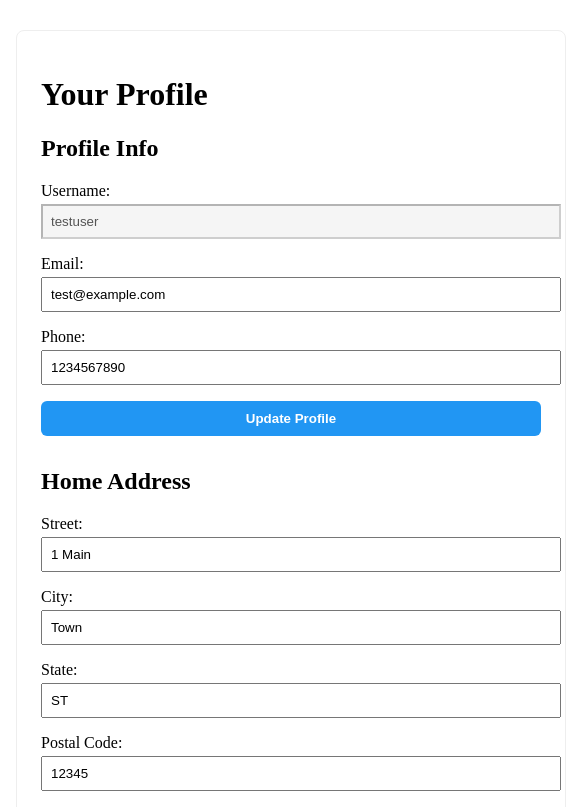
it: Profile › submits profile update and shows success
The width and height of the screenshot is (583, 807).
Replace the text in the field labelled "Email:" with "new@example.com" at (301, 294), box [41,277,561,312]
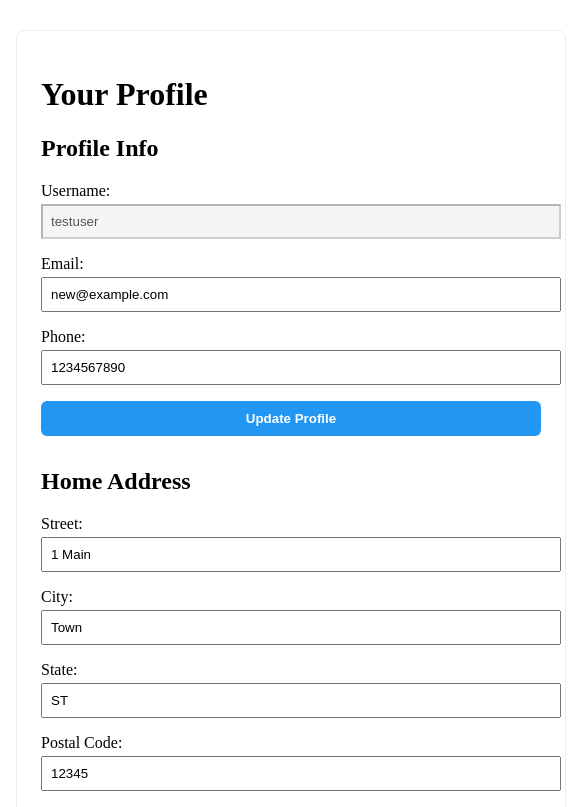
Click the button "Update Profile" at (291, 418), box [41,401,541,436]
(page scrolled)
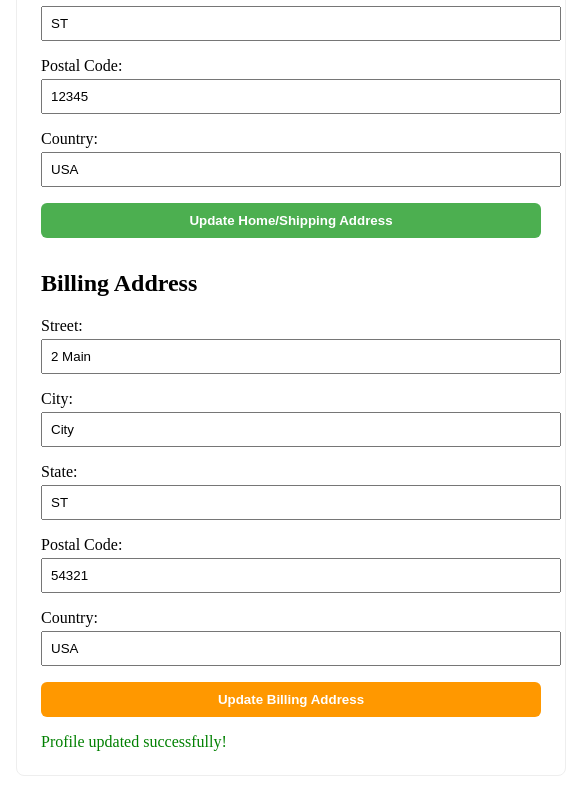
Check: the text "Profile updated successfully!" is shown, box [41,733,227,750]
